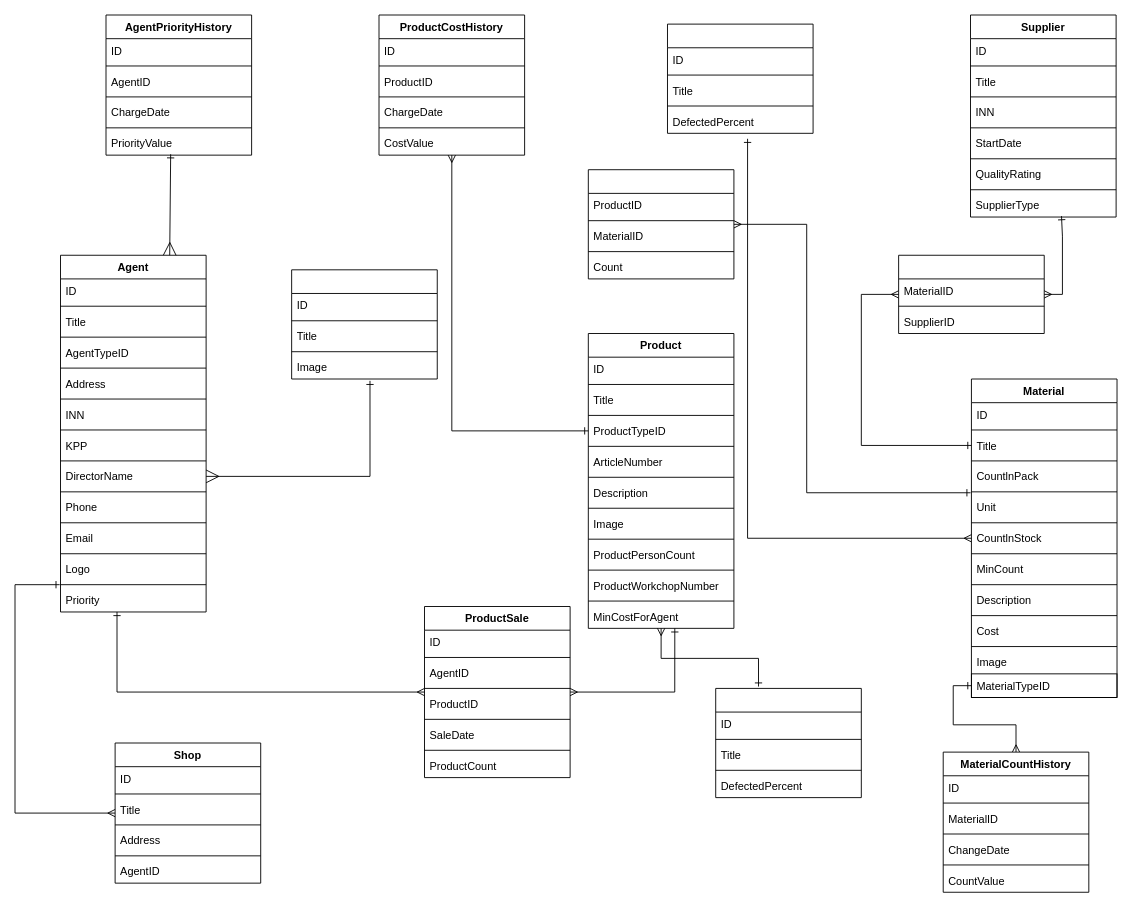
Some shapes in this 1132 by 907 pixel diagram are drawn without their labels. Each missing label, with the box of its shape:
AgentType: (291, 269, 437, 379)
MaterialSupplier: (898, 254, 1044, 334)
MaterialType: (667, 23, 813, 133)
ProductMaterial: (587, 169, 734, 279)
ProductType: (715, 688, 861, 798)
